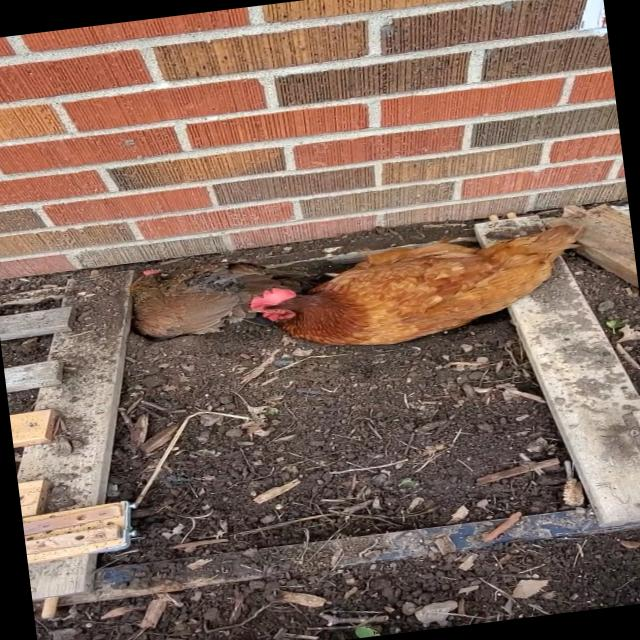stand bath: (236, 206, 615, 362), (92, 222, 294, 353)
